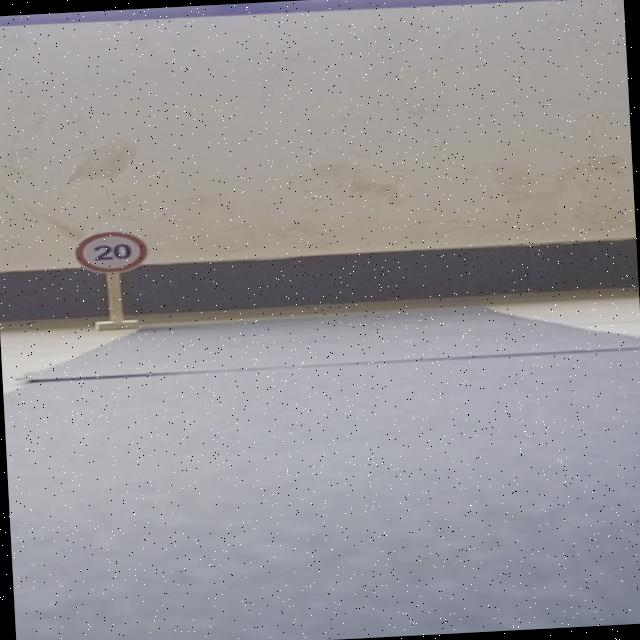Speed20: (70, 228, 154, 278)
